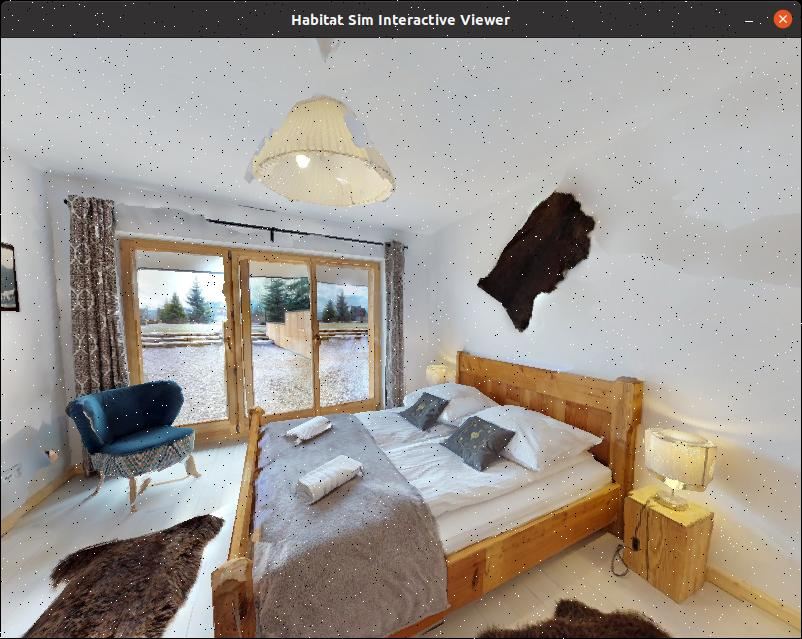bed: (195, 353, 654, 639)
sofa: (72, 343, 223, 519)
